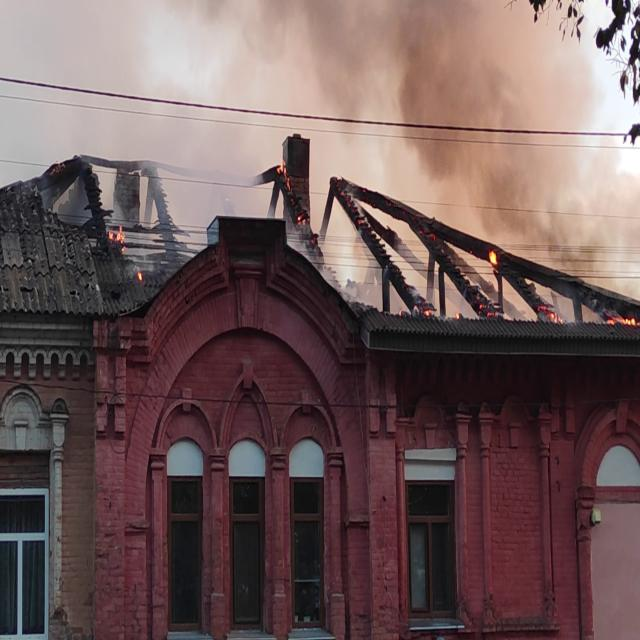fire: (271, 161, 310, 238), (101, 216, 143, 276), (484, 241, 510, 287)
smoke: (390, 2, 555, 225)
